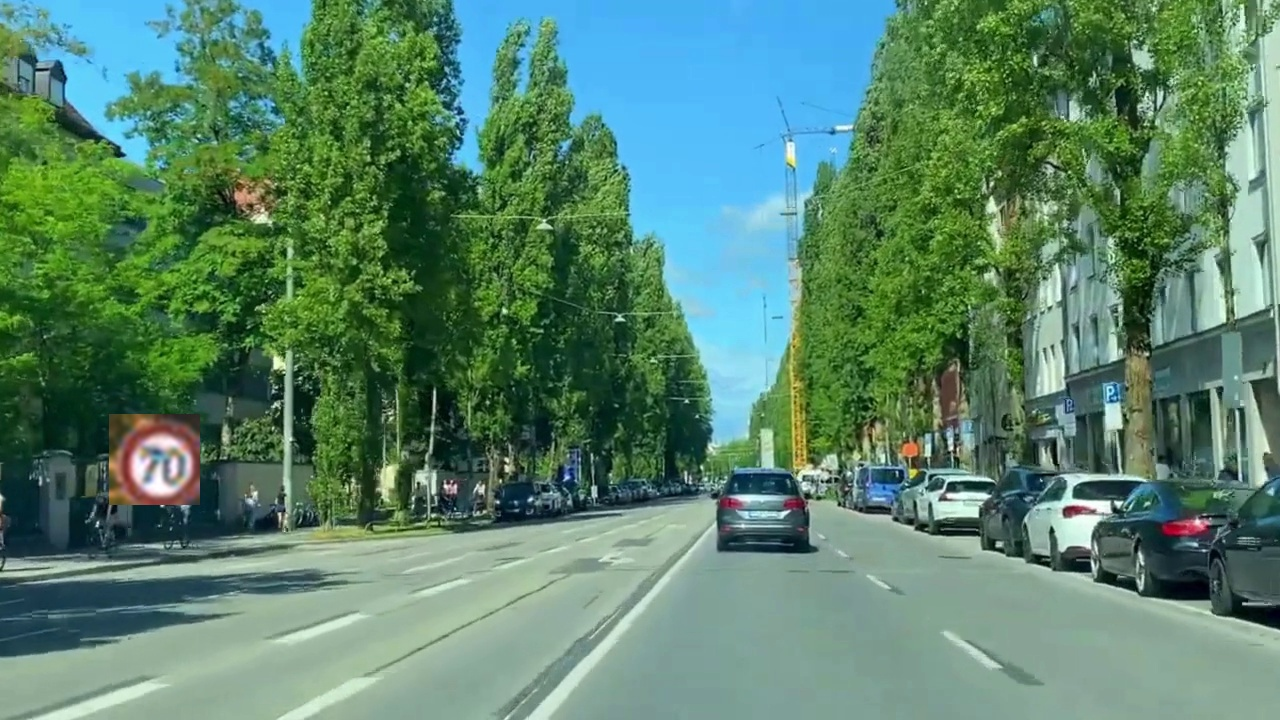Speed 70: (109, 414, 200, 505)
